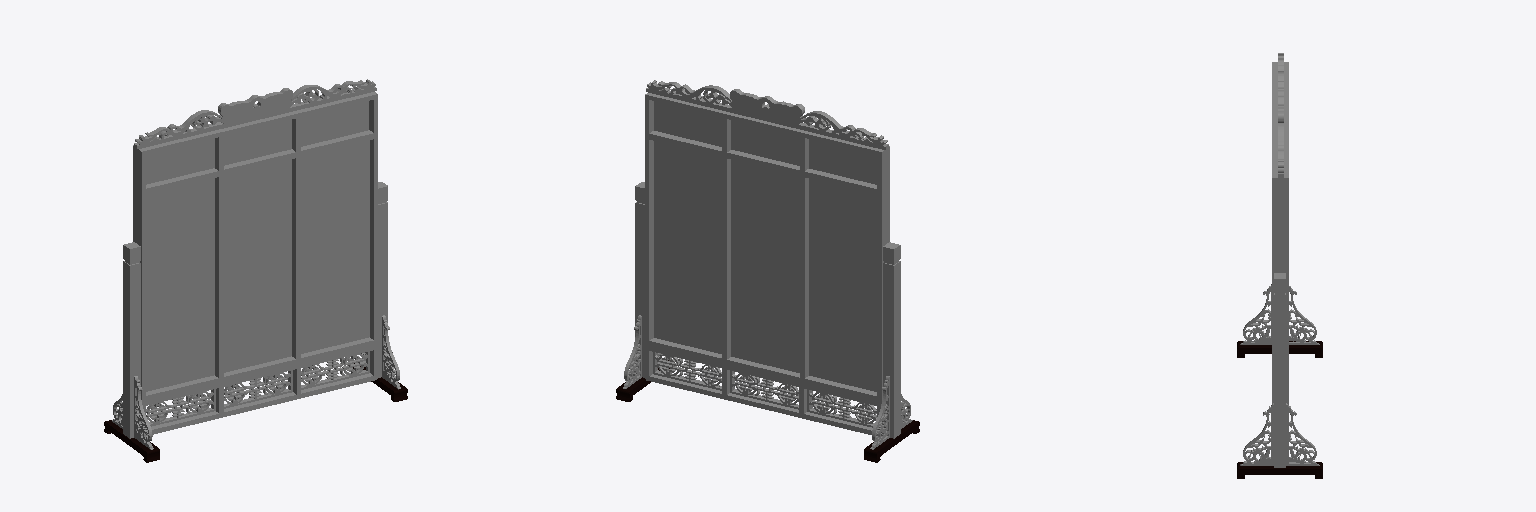
File: Screen.obj
3 views of the same model, side by side, from view 1: azimuth 30°, elevation 25°; view 2: azimuth 150°, elevation 25°; view 3: azimuth 270°, elevation 25° (orthographic).
Visible parts, largest first — view 1: Plane03, Plane01, Plane02, Shape03, Shape08, Shape02, Shape1, Plane04, Plane06, Plane05, Box05, Box01 (+9 smaller); view 2: Plane02, Plane01, Plane03, Shape03, Shape02, Shape08, Shape1, Plane05, Plane04, Plane06, Box05, Shape10 (+9 smaller); view 3: Shape02, Plane07, Shape12, Shape07, Shape13, Shape08, Shape14.
Boxes of the visible parts, x1=… form: Plane03: x1=301, y1=140, x2=369, y2=353; Plane01: x1=146, y1=178, x2=214, y2=391; Plane02: x1=224, y1=159, x2=291, y2=372; Shape03: x1=133, y1=130, x2=222, y2=401; Shape08: x1=134, y1=79, x2=376, y2=148; Shape02: x1=297, y1=92, x2=377, y2=365; Shape1: x1=219, y1=111, x2=299, y2=384; Plane04: x1=146, y1=138, x2=214, y2=184; Plane06: x1=301, y1=101, x2=368, y2=146; Plane05: x1=224, y1=120, x2=291, y2=165; Box05: x1=123, y1=261, x2=140, y2=438; Box01: x1=378, y1=202, x2=387, y2=377; Plane02: x1=731, y1=160, x2=799, y2=372; Plane01: x1=809, y1=179, x2=876, y2=391; Plane03: x1=654, y1=141, x2=721, y2=353; Shape03: x1=801, y1=130, x2=889, y2=403; Shape02: x1=645, y1=93, x2=728, y2=364; Shape08: x1=646, y1=80, x2=888, y2=149; Shape1: x1=723, y1=112, x2=806, y2=382; Plane05: x1=731, y1=120, x2=799, y2=165; Plane04: x1=809, y1=139, x2=876, y2=184; Plane06: x1=654, y1=101, x2=721, y2=146; Box05: x1=883, y1=261, x2=899, y2=438; Shape10: x1=730, y1=371, x2=798, y2=409; Shape02: x1=1272, y1=138, x2=1288, y2=404; Plane07: x1=1274, y1=295, x2=1285, y2=467; Shape12: x1=1240, y1=403, x2=1273, y2=465; Shape07: x1=1286, y1=403, x2=1319, y2=465; Shape13: x1=1240, y1=284, x2=1271, y2=344; Shape08: x1=1278, y1=53, x2=1283, y2=177; Shape14: x1=1289, y1=286, x2=1319, y2=344.
Bounding box in the file's own units: 28.17 × 32.9 × 8.06.